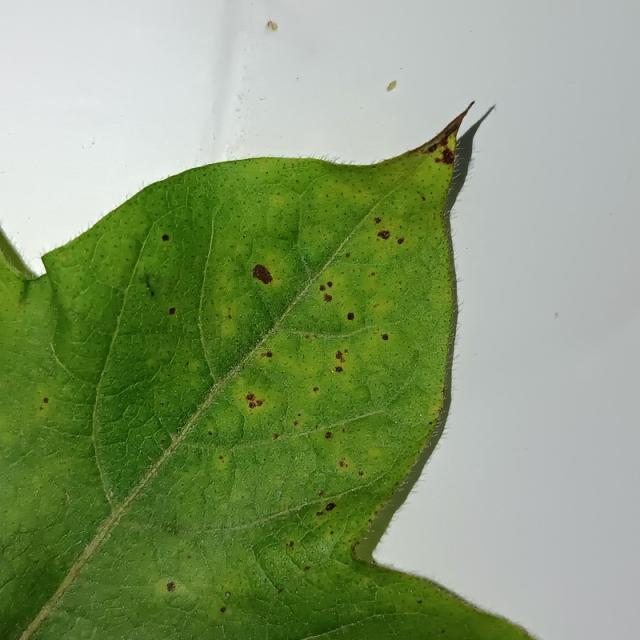Bacterial_Blight: (246, 256, 279, 282), (139, 269, 159, 296), (434, 147, 455, 166), (316, 502, 337, 517), (246, 396, 264, 409), (38, 396, 50, 411), (377, 230, 390, 240), (166, 581, 176, 592), (428, 143, 438, 153), (338, 459, 348, 468), (168, 307, 176, 315), (324, 294, 332, 302), (335, 351, 343, 359), (337, 355, 345, 363), (161, 234, 169, 242), (325, 431, 332, 439), (397, 237, 405, 244), (380, 334, 388, 341), (287, 541, 294, 549), (347, 312, 354, 320), (373, 217, 381, 224), (335, 366, 343, 373), (246, 394, 253, 401), (272, 433, 279, 440), (326, 281, 333, 288), (266, 351, 273, 358), (248, 402, 256, 408), (319, 285, 326, 291), (43, 397, 49, 403), (218, 455, 224, 461), (371, 272, 376, 276)
Cotton: (0, 110, 530, 639)
